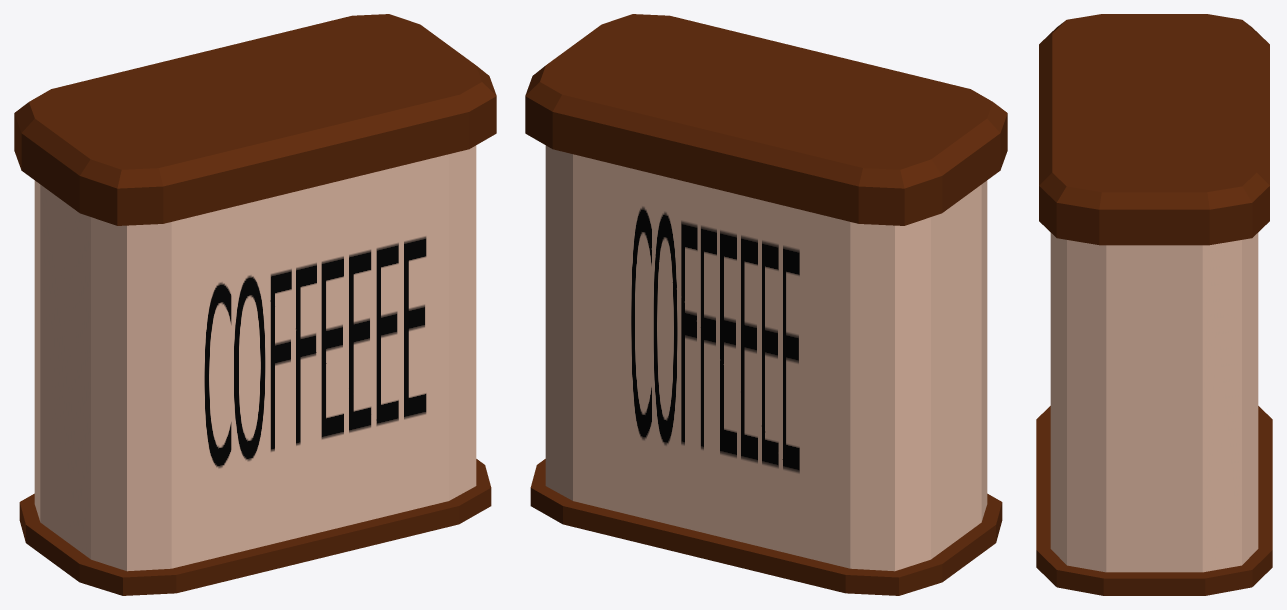
Rendered from coffeepurupurkki.fbx.
The picture shows the model from 3 angles, left to right: view 1: azimuth 30°, elevation 25°; view 2: azimuth 150°, elevation 25°; view 3: azimuth 270°, elevation 25°; orthographic projection. The views are drawn at different scales.
Visible parts, largest first — view 1: Coffee pururasia, Coffee pururasia kansi; view 2: Coffee pururasia, Coffee pururasia kansi; view 3: Coffee pururasia, Coffee pururasia kansi.
Part boxes in pixels (left/top/right/bottom): Coffee pururasia: left=19, top=145, right=491, bottom=595; Coffee pururasia kansi: left=14, top=14, right=496, bottom=225; Coffee pururasia: left=530, top=145, right=1002, bottom=595; Coffee pururasia kansi: left=525, top=14, right=1007, bottom=225; Coffee pururasia: left=1036, top=233, right=1272, bottom=595; Coffee pururasia kansi: left=1039, top=14, right=1269, bottom=245.
Bounding box in the file's own units: 21.59 × 21.22 × 11.38.
1 material, 1 textured.
